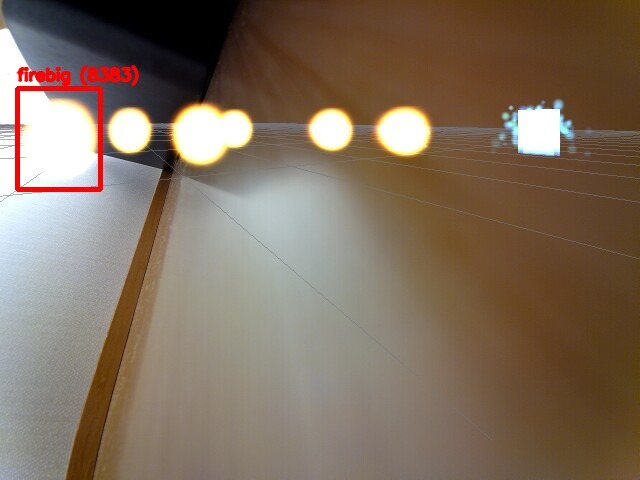firebig: (17, 88, 100, 189)
